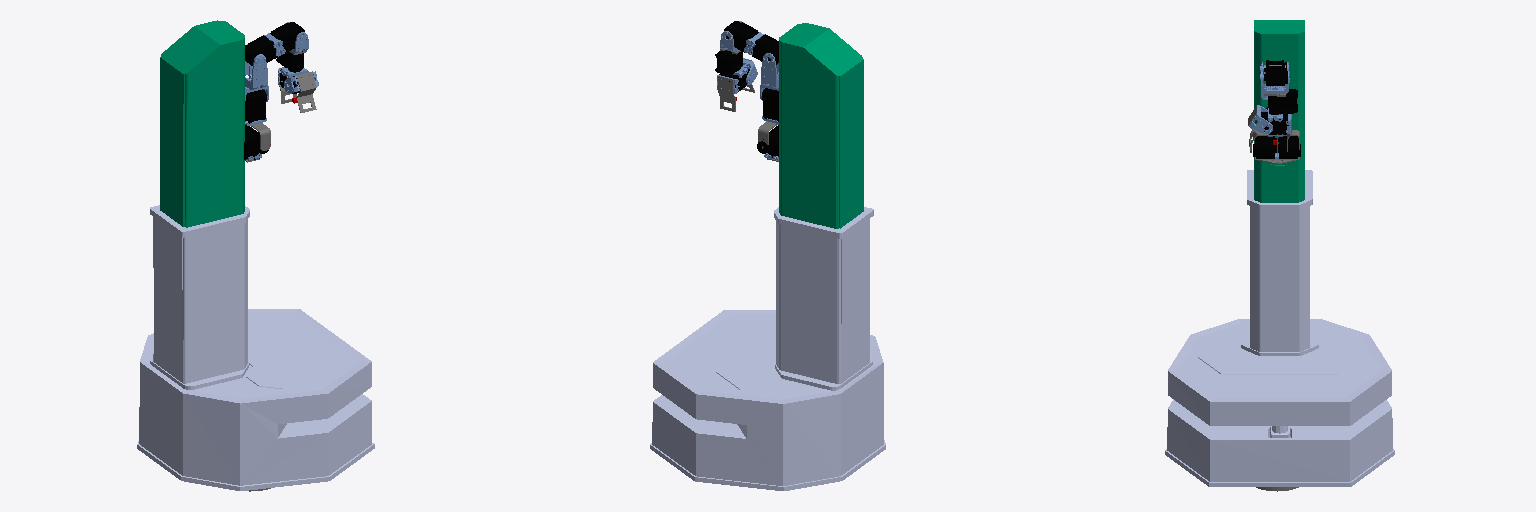
--- What the picture shows (computed from the rendered views, not written in the file) ---
Views: 3 orthographic renders of the robot side by side, from view 1: azimuth 30°, elevation 25°; view 2: azimuth 150°, elevation 25°; view 3: azimuth 270°, elevation 25°.
Robot: hv_bot — 26 links, 25 joints (7 revolute, 2 continuous, 1 prismatic, 15 fixed); root link base_footprint; default pose: every joint at zero.
Visible links, largest first — view 1: base_link_torso, torso_link, lower_arm_link, upper_arm_link, finger_link, elbow_link, wrist_link, shoulder_link; view 2: base_link_torso, torso_link, lower_arm_link, wrist_link, gripper_link, upper_arm_link, elbow_link; view 3: base_link_torso, torso_link, shoulder_link, wrist_link, lower_arm_link, gripper_link.
Boxes of the visible links, box(x1,y1,x2,y2) form: base_link_torso: box(137, 205, 374, 490); torso_link: box(160, 20, 244, 227); lower_arm_link: box(245, 22, 304, 65); upper_arm_link: box(245, 89, 270, 150); finger_link: box(284, 71, 318, 112); elbow_link: box(245, 44, 268, 101); wrist_link: box(276, 22, 308, 72); shoulder_link: box(244, 125, 268, 162); base_link_torso: box(650, 207, 885, 490); torso_link: box(779, 23, 863, 228); lower_arm_link: box(724, 21, 778, 64); wrist_link: box(715, 21, 743, 75); gripper_link: box(717, 67, 749, 111); upper_arm_link: box(758, 88, 778, 148); elbow_link: box(760, 53, 778, 100); base_link_torso: box(1165, 170, 1394, 486); torso_link: box(1254, 20, 1304, 202); shoulder_link: box(1253, 136, 1300, 163); wrist_link: box(1260, 71, 1297, 114); lower_arm_link: box(1264, 60, 1287, 85); gripper_link: box(1261, 108, 1291, 151).
Bounding box of the posed robot: 0.5098 × 0.5863 × 1.24 m (x, y, z).
Meshes: 9 distinct files referenced, 9 mesh visuals loaded (2 binary STL, 7 Collada DAE); not drawn: 3 (reference in a form the renderer does not follow; not among the files counted above).

URDF robot description (hv_bot):
<?xml version="1.0" ?>
<!-- =================================================================================== -->
<!-- |    This document was autogenerated by xacro from robot.urdf.xacro               | -->
<!-- |    EDITING THIS FILE BY HAND IS NOT RECOMMENDED                                 | -->
<!-- =================================================================================== -->
<robot name="hv_bot">
  <material name="black">
    <color rgba="0.0 0.0 0.0 1.0"/>
  </material>
  <material name="blue">
    <color rgba="0.0 0.0 0.8 1.0"/>
  </material>
  <material name="green">
    <color rgba="0.0 0.8 0.0 1.0"/>
  </material>
  <material name="yellow">
    <color rgba="1.0 1.0 0.0 1.0"/>
  </material>
  <material name="dark_grey">
    <color rgba="0.2 0.2 0.2 1.0"/>
  </material>
  <material name="orange">
    <color rgba="1.0 0.4235294117647059 0.0392156862745098 1.0"/>
  </material>
  <material name="brown">
    <color rgba="0.5450980392156862 0.27058823529411763 0.07450980392156863 1.0"/>
  </material>
  <material name="red">
    <color rgba="0.8 0.0 0.0 1.0"/>
  </material>
  <material name="turquoise">
    <color rgba="0.25098039215686274 0.8784313725490196 0.8156862745098039 1.0"/>
  </material>
  <material name="purple">
    <color rgba="0.5019607843137255 0.0 0.5019607843137255 1.0"/>
  </material>
  <material name="white">
    <color rgba="1.0 1.0 1.0 1.0"/>
  </material>
  <material name="aluminium">
    <color rgba="0.5 0.5 0.5 1"/>
  </material>
  <material name="plastic">
    <color rgba="0.1 0.1 0.1 1"/>
  </material>
  <!--................................ INERTIA MATRICES .............................. -->
  <!-- ............................... TROLLEY WHEEL DEFINITION .............................. -->
  <!-- Base -->
  <!--................................ XACRO CONSTANTS .............................. -->
  <!-- ............................... LOAD MACROS ................................. -->
  <!-- ........................... SENSOR PLUGIN ................................... -->
  <gazebo>
    <plugin filename="gz-sim-sensors-system" name="gz::sim::systems::Sensors">
      <render_engine>ogre2</render_engine>
    </plugin>
    <plugin filename="gz-sim-imu-system" name="gz::sim::systems::Imu">
        </plugin>
    <plugin filename="gz-sim-diff-drive-system" name="gz::sim::systems::DiffDrive">
      <left_joint>middle_left_wheel_joint</left_joint>
      <right_joint>middle_right_wheel_joint</right_joint>
      <wheel_separation>0.64</wheel_separation>
      <wheel_radius>0.11</wheel_radius>
      <odom_publish_frequency>30</odom_publish_frequency>
      <topic>/cmd_vel</topic>
      <odom_topic>odom</odom_topic>
      <tf_topic>/tf</tf_topic>
      <frame_id>odom</frame_id>
      <child_frame_id>base_footprint</child_frame_id>
    </plugin>
    <plugin filename="gz-sim-joint-state-publisher-system" name="gz::sim::systems::JointStatePublisher">
      <topic>joint_states</topic>
      <joint_name>middle_left_wheel_joint</joint_name>
      <joint_name>middle_right_wheel_joint</joint_name>
    </plugin>
  </gazebo>
  <gazebo reference="gripper_link">
    <kp>1000000.0</kp>
    <kd>100.0</kd>
    <mu1>15</mu1>
    <mu2>15</mu2>
    <fdir1>1 0 0</fdir1>
    <maxVel>1.0</maxVel>
    <minDepth>0.002</minDepth>
  </gazebo>
  <gazebo>
    <plugin filename="gz-sim-joint-state-publisher-system" name="gz::sim::systems::JointStatePublisher">
      <topic>joint_states</topic>
      <joint_name>shoulder_joint</joint_name>
      <joint_name>upper_arm_joint</joint_name>
      <joint_name>elbow_joint</joint_name>
      <joint_name>lower_arm_joint</joint_name>
      <joint_name>wrist_joint</joint_name>
      <joint_name>gripper_joint</joint_name>
      <joint_name>finger_joint</joint_name>
      <joint_name>base_prismatic_torso</joint_name>
    </plugin>
  </gazebo>
  <gazebo reference="gripper_camera_link">
    <sensor name="camera" type="camera">
      <camera>
        <horizontal_fov>1.3962634</horizontal_fov>
        <image>
          <width>640</width>
          <height>480</height>
          <format>R8G8B8</format>
        </image>
        <clip>
          <near>0.1</near>
          <far>15</far>
        </clip>
        <noise>
          <type>gaussian</type>
          <!-- Noise is sampled independently per pixel on each frame.
               That pixel's noise value is added to each of its color
               channels, which at that point lie in the range [0,1]. -->
          <mean>0.0</mean>
          <stddev>0.007</stddev>
        </noise>
        <optical_frame_id>gripper_camera_link_optical</optical_frame_id>
        <camera_info_topic>gripper_camera/camera_info</camera_info_topic>
      </camera>
      <always_on>1</always_on>
      <update_rate>20</update_rate>
      <visualize>true</visualize>
      <topic>gripper_camera/image</topic>
    </sensor>
  </gazebo>
  <gazebo reference="two_d_lidar">
    <sensor name="gpu_lidar" type="gpu_lidar">
      <topic>scan</topic>
      <update_rate>30</update_rate>
      <gz_frame_id>two_d_lidar</gz_frame_id>
      <lidar>
        <scan>
          <horizontal>
            <samples>361</samples>
            <resolution>1</resolution>
            <min_angle>0.0</min_angle>
            <max_angle>6.283185307179586</max_angle>
          </horizontal>
        </scan>
        <range>
          <min>0.55</min>
          <max>16</max>
          <resolution>0.01</resolution>
        </range>
        <noise>
          <type>gaussian</type>
          <mean>0.0</mean>
          <stddev>0.001</stddev>
        </noise>
      </lidar>
      <always_on>1</always_on>
      <visualize>true</visualize>
    </sensor>
  </gazebo>
  <gazebo reference="imu_link">
    <sensor name="imu" type="imu">
      <always_on>1</always_on>
      <update_rate>50</update_rate>
      <visualize>true</visualize>
      <topic>imu</topic>
      <enable_metrics>true</enable_metrics>
      <gz_frame_id>imu_link</gz_frame_id>
    </sensor>
  </gazebo>
  <!-- ................................ BASE LINK .................................. -->
  <link name="base_footprint"/>
  <link name="base_link"/>
  <joint name="base_joint" type="fixed">
    <parent link="base_footprint"/>
    <child link="base_link"/>
    <origin rpy="0 0 0.0" xyz="0.0 0 0.195"/>
  </joint>
  <link name="chassis_link">
    <collision>
      <origin rpy="0 0 0" xyz="0 0 -0.05"/>
      <geometry>
        <box size="0.9 0.64 0.19"/>
      </geometry>
    </collision>
    <visual>
      <origin rpy="0 0 0" xyz="0 0 -0.205"/>
      <geometry>
        <mesh filename="file://[local-path]/hv_bot/install/hv_bot_arm/share/hv_bot_arm/meshes/bcr_bot_mesh.dae" scale="1 1 1"/>
      </geometry>
    </visual>
    <inertial>
      <mass value="70"/>
      <inertia ixx="2.5999166666666667" ixy="0" ixz="0" iyy="4.935583333333334" iyz="0" izz="7.114333333333334"/>
    </inertial>
  </link>
  <joint name="chassis_joint" type="fixed">
    <parent link="base_link"/>
    <child link="chassis_link"/>
    <origin rpy="0 0 0.0" xyz="0.0 0 0"/>
  </joint>
  <!-- ................................ WHEELS ..................................... -->
  <link name="front_left_wheel">
    <collision>
      <origin rpy="0 1.5707963267948966 1.5707963267948966" xyz="0 0 0"/>
      <geometry>
        <sphere radius="0.06"/>
      </geometry>
    </collision>
    <inertial>
      <origin rpy="0 0 0" xyz="0 0 0"/>
      <mass value="0.1"/>
      <inertia ixx="0.00014399999999999998" ixy="0" ixz="0" iyy="0.00014399999999999998" iyz="0" izz="0.00014399999999999998"/>
    </inertial>
    <mu>0.0</mu>
  </link>
  <joint name="front_left_wheel_joint" type="fixed">
    <parent link="base_link"/>
    <child link="front_left_wheel"/>
    <origin rpy="0 0 0" xyz="0.45 0.27 -0.155"/>
    <axis rpy="0 0 0" xyz="0 1 0"/>
  </joint>
  <gazebo reference="front_left_wheel">
    <material>Gazebo/Black</material>
  </gazebo>
  <link name="front_right_wheel">
    <collision>
      <origin rpy="0 1.5707963267948966 1.5707963267948966" xyz="0 0 0"/>
      <geometry>
        <sphere radius="0.06"/>
      </geometry>
    </collision>
    <inertial>
      <origin rpy="0 0 0" xyz="0 0 0"/>
      <mass value="0.1"/>
      <inertia ixx="0.00014399999999999998" ixy="0" ixz="0" iyy="0.00014399999999999998" iyz="0" izz="0.00014399999999999998"/>
    </inertial>
    <mu>0.0</mu>
  </link>
  <joint name="front_right_wheel_joint" type="fixed">
    <parent link="base_link"/>
    <child link="front_right_wheel"/>
    <origin rpy="0 0 0" xyz="0.45 -0.27 -0.155"/>
    <axis rpy="0 0 0" xyz="0 1 0"/>
  </joint>
  <gazebo reference="front_right_wheel">
    <material>Gazebo/Black</material>
  </gazebo>
  <link name="back_left_wheel">
    <collision>
      <origin rpy="0 1.5707963267948966 1.5707963267948966" xyz="0 0 0"/>
      <geometry>
        <sphere radius="0.06"/>
      </geometry>
    </collision>
    <inertial>
      <origin rpy="0 0 0" xyz="0 0 0"/>
      <mass value="0.1"/>
      <inertia ixx="0.00014399999999999998" ixy="0" ixz="0" iyy="0.00014399999999999998" iyz="0" izz="0.00014399999999999998"/>
    </inertial>
    <mu>0.0</mu>
  </link>
  <joint name="back_left_wheel_joint" type="fixed">
    <parent link="base_link"/>
    <child link="back_left_wheel"/>
    <origin rpy="0 0 0" xyz="-0.45 0.27 -0.155"/>
    <axis rpy="0 0 0" xyz="0 1 0"/>
  </joint>
  <gazebo reference="back_left_wheel">
    <material>Gazebo/Black</material>
  </gazebo>
  <link name="back_right_wheel">
    <collision>
      <origin rpy="0 1.5707963267948966 1.5707963267948966" xyz="0 0 0"/>
      <geometry>
        <sphere radius="0.06"/>
      </geometry>
    </collision>
    <inertial>
      <origin rpy="0 0 0" xyz="0 0 0"/>
      <mass value="0.1"/>
      <inertia ixx="0.00014399999999999998" ixy="0" ixz="0" iyy="0.00014399999999999998" iyz="0" izz="0.00014399999999999998"/>
    </inertial>
    <mu>0.0</mu>
  </link>
  <joint name="back_right_wheel_joint" type="fixed">
    <parent link="base_link"/>
    <child link="back_right_wheel"/>
    <origin rpy="0 0 0" xyz="-0.45 -0.27 -0.155"/>
    <axis rpy="0 0 0" xyz="0 1 0"/>
  </joint>
  <gazebo reference="back_right_wheel">
    <material>Gazebo/Black</material>
  </gazebo>
  <link name="middle_left_wheel">
    <collision>
      <origin rpy="0 1.5707963267948966 1.5707963267948966" xyz="0 0 0"/>
      <geometry>
        <cylinder length="0.05" radius="0.1"/>
      </geometry>
      <self_collide>false</self_collide>
    </collision>
    <inertial>
      <origin rpy="0 1.5707963267948966 1.5707963267948966" xyz="0 0 0"/>
      <mass value="1"/>
      <inertia ixx="0.002708333333333334" ixy="0" ixz="0" iyy="0.002708333333333334" iyz="0" izz="0.005000000000000001"/>
    </inertial>
    <mu>5.0</mu>
  </link>
  <joint name="middle_left_wheel_joint" type="continuous">
    <parent link="base_link"/>
    <child link="middle_left_wheel"/>
    <origin rpy="0 0 0" xyz="0 0.3 -0.11699999999999999"/>
    <axis rpy="0 0 0" xyz="0 1 0"/>
  </joint>
  <gazebo reference="middle_left_wheel">
    <material>Gazebo/Black</material>
  </gazebo>
  <link name="middle_right_wheel">
    <collision>
      <origin rpy="0 1.5707963267948966 1.5707963267948966" xyz="0 0 0"/>
      <geometry>
        <cylinder length="0.05" radius="0.1"/>
      </geometry>
      <self_collide>false</self_collide>
    </collision>
    <inertial>
      <origin rpy="0 1.5707963267948966 1.5707963267948966" xyz="0 0 0"/>
      <mass value="1"/>
      <inertia ixx="0.002708333333333334" ixy="0" ixz="0" iyy="0.002708333333333334" iyz="0" izz="0.005000000000000001"/>
    </inertial>
    <mu>5.0</mu>
  </link>
  <joint name="middle_right_wheel_joint" type="continuous">
    <parent link="base_link"/>
    <child link="middle_right_wheel"/>
    <origin rpy="0 0 0" xyz="0 -0.3 -0.11699999999999999"/>
    <axis rpy="0 0 0" xyz="0 1 0"/>
  </joint>
  <gazebo reference="middle_right_wheel">
    <material>Gazebo/Black</material>
  </gazebo>
  <link name="base_link_torso">
    <inertial>
      <origin rpy="0 1.57 0" xyz="0 0 0"/>
      <mass value="5.0"/>
      <inertia ixx="0.01" ixy="0.0" ixz="0.0" iyy="0.01" iyz="0.0" izz="0.01"/>
    </inertial>
    <visual>
      <origin rpy="0 0 0" xyz="0 0 0"/>
      <geometry>
        <mesh filename="package://hv_bot_arm/meshes/base_link.STL" scale="1000 1000 1000"/>
      </geometry>
      <material name="">
        <color rgba="0.792156862745098 0.819607843137255 0.933333333333333 1"/>
      </material>
    </visual>
    <collision>
      <origin rpy="0 1.57 0" xyz="0 0 0"/>
      <geometry>
        <mesh filename="package://hv_bot_arm/meshes/base_link.STL" scale="1000 1000 1000"/>
      </geometry>
    </collision>
  </link>
  <joint name="torso_joint" type="fixed">
    <parent link="base_link"/>
    <child link="base_link_torso"/>
    <origin rpy="1.57 0 -1.57" xyz="0.0 0 0.145"/>
  </joint>
  <link name="torso_link">
    <visual>
      <geometry>
        <mesh filename="package://hv_bot_arm/meshes/torso.STL" scale="1000 1000 1000"/>
      </geometry>
      <origin rpy="0 0 0.0" xyz="0 0 0"/>
    </visual>
    <collision>
      <geometry>
        <mesh filename="package://hv_bot_arm/meshes/torso.STL" scale="1000 1000 1000"/>
      </geometry>
    </collision>
    <inertial>
      <origin xyz="0.0 0.0 0.0"/>
      <mass value="0.480879"/>
      <inertia ixx="0.222" ixy="0" ixz="0" iyy="0.395" iyz="0" izz="0.222"/>
    </inertial>
  </link>
  <joint name="base_prismatic_torso" type="prismatic">
    <parent link="base_link_torso"/>
    <child link="torso_link"/>
    <axis xyz="0 1 0"/>
    <limit effort="1000.0" lower="0" upper="0.4" velocity="0.5"/>
    <origin rpy="0 0 0" xyz="0 0 0"/>
    <!--pos-->
  </joint>
  <joint name="shoulder_joint" type="revolute">
    <origin rpy="1.57 4.71079637 3.14" xyz="0.0 0.8 0"/>
    <parent link="torso_link"/>
    <child link="shoulder_link"/>
    <limit effort="100" lower="-3.14" upper="3.14" velocity="100"/>
    <dynamics damping="0.1" friction="0.1"/>
    <axis xyz="0 0 1"/>
  </joint>
  <link name="shoulder_link">
    <visual>
      <geometry>
        <mesh filename="package://hv_bot_arm/meshes/DAE/shoulder/shoulder.dae" scale="1.5 1.5 1.5"/>
      </geometry>
    </visual>
    <collision>
      <geometry>
        <mesh filename="package://hv_bot_arm/meshes/STL/shoulder/shoulder.stl" scale="1.5 1.5 1.5"/>
      </geometry>
    </collision>
    <inertial>
      <origin xyz="0.0000223482 0.0000414609 0.0066287000"/>
      <mass value="0.480879"/>
      <inertia ixx="0.222" ixy="0" ixz="0" iyy="0.395" iyz="0" izz="0.222"/>
    </inertial>
    <surface>
      <friction>
        <ode>
          <mu1>1.2</mu1>
          <mu2>1.2</mu2>
          <kp>1e15</kp>
          <kd>1e13</kd>
        </ode>
      </friction>
      <bounce>
        <restitution_coefficient>0.01</restitution_coefficient>
        <threshold>0</threshold>
      </bounce>
      <contact>
        <ode>
          <max_vel>10</max_vel>
        </ode>
      </contact>
    </surface>
  </link>
  <joint name="upper_arm_joint" type="revolute">
    <origin rpy="0 0 0" xyz="0.0 0.005 0.0415"/>
    <parent link="shoulder_link"/>
    <child link="upper_arm_link"/>
    <limit effort="100" lower="-3.14" upper="3.14" velocity="100"/>
    <dynamics damping="0.1" friction="0.1"/>
    <axis xyz="0 1 0"/>
  </joint>
  <link name="upper_arm_link">
    <visual>
      <geometry>
        <mesh filename="package://hv_bot_arm/meshes/DAE/upper_arm/upper_arm.dae" scale="1.5 1.5 1.5"/>
      </geometry>
    </visual>
    <collision>
      <geometry>
        <mesh filename="package://hv_bot_arm/meshes/STL/upper_arm/upper_arm.stl" scale="1.5 1.5 1.5"/>
      </geometry>
    </collision>
    <inertial>
      <origin xyz="0.0 0.0 0.0"/>
      <mass value="0.298"/>
      <inertia ixx="0.002176" ixy="-0.0000030658" ixz="0.0" iyy="0.00005757" iyz="0.0" izz="0.002186"/>
    </inertial>
    <surface>
      <friction>
        <ode>
          <mu1>1.2</mu1>
          <mu2>1.2</mu2>
          <kp>1e15</kp>
          <kd>1e13</kd>
        </ode>
      </friction>
      <bounce>
        <restitution_coefficient>0.01</restitution_coefficient>
        <threshold>0</threshold>
      </bounce>
      <contact>
        <ode>
          <max_vel>10</max_vel>
        </ode>
      </contact>
    </surface>
  </link>
  <joint name="elbow_joint" type="revolute">
    <origin rpy="0 0 0" xyz="0.0 0.0 0.10275"/>
    <parent link="upper_arm_link"/>
    <child link="elbow_link"/>
    <limit effort="100" lower="-3.14" upper="3.14" velocity="100"/>
    <dynamics damping="0.1" friction="0.1"/>
    <axis xyz="1 0 0"/>
  </joint>
  <link name="elbow_link">
    <visual>
      <geometry>
        <mesh filename="package://hv_bot_arm/meshes/DAE/elbow/elbow.dae" scale="1.5 1.5 1.5"/>
      </geometry>
    </visual>
    <collision>
      <geometry>
        <mesh filename="package://hv_bot_arm/meshes/STL/elbow/elbow.stl" scale="1.5 1.5 1.5"/>
      </geometry>
    </collision>
    <inertial>
      <origin xyz="0.1079630000 0.0001158760 0"/>
      <mass value="0.234589"/>
      <inertia ixx="0.00003971" ixy="0.0000023528" ixz="0.0" iyy="0.0008878" iyz="0.0" izz="0.000888"/>
    </inertial>
    <surface>
      <friction>
        <ode>
          <mu1>1.2</mu1>
          <mu2>1.2</mu2>
          <kp>1e15</kp>
          <kd>1e13</kd>
        </ode>
      </friction>
      <bounce>
        <restitution_coefficient>0.01</restitution_coefficient>
        <threshold>0</threshold>
      </bounce>
      <contact>
        <ode>
          <max_vel>10</max_vel>
        </ode>
      </contact>
    </surface>
  </link>
  <joint name="lower_arm_joint" type="revolute">
    <origin rpy="0 -1.3089969750000001 0" xyz="0.0 0.0 0.117"/>
    <parent link="elbow_link"/>
    <child link="lower_arm_link"/>
    <limit effort="100" lower="-3.14" upper="3.14" velocity="100"/>
    <dynamics damping="0.1" friction="0.1"/>
    <axis xyz="0 1 0"/>
  </joint>
  <link name="lower_arm_link">
    <visual>
      <geometry>
        <mesh filename="package://hv_bot_arm/meshes/DAE/lower_arm/lower_arm.dae" scale="1.5 1.5 1.5"/>
      </geometry>
    </visual>
    <collision>
      <geometry>
        <mesh filename="package://hv_bot_arm/meshes/STL/lower_arm/lower_arm.stl" scale="1.5 1.5 1.5"/>
      </geometry>
    </collision>
    <inertial>
      <origin xyz="0.0374395000 0.0052225200 0"/>
      <mass value="0.220991"/>
      <inertia ixx="0.00006369" ixy="-0.00002292" ixz="0.0" iyy="0.0001677" iyz="0.0" izz="0.0001834"/>
    </inertial>
    <surface>
      <friction>
        <ode>
          <mu1>1.2</mu1>
          <mu2>1.2</mu2>
          <kp>1e15</kp>
          <kd>1e13</kd>
        </ode>
      </friction>
      <bounce>
        <restitution_coefficient>0.01</restitution_coefficient>
        <threshold>0</threshold>
      </bounce>
      <contact>
        <ode>
          <max_vel>10</max_vel>
        </ode>
      </contact>
    </surface>
  </link>
  <joint name="wrist_joint" type="revolute">
    <origin rpy="0 -1.832595765 0" xyz="0.0 0.0 0.1245"/>
    <parent link="lower_arm_link"/>
    <child link="wrist_link"/>
    <limit effort="100" lower="-3.14" upper="3.14" velocity="100"/>
    <dynamics damping="0.1" friction="0.1"/>
    <axis xyz="0 1 0"/>
  </joint>
  <link name="wrist_link">
    <visual>
      <geometry>
        <mesh filename="package://hv_bot_arm/meshes/DAE/wrist/wrist.dae" scale="1.5 1.5 1.5"/>
      </geometry>
    </visual>
    <collision>
      <geometry>
        <mesh filename="package://hv_bot_arm/meshes/STL/wrist/wrist.stl" scale="1.5 1.5 1.5"/>
      </geometry>
    </collision>
    <inertial>
      <origin xyz="0.0 0.0 0.0"/>
      <mass value="0.085"/>
      <inertia ixx="0.00003082" ixy="0.0000000191" ixz="0.0000000023" iyy="0.00002822" iyz="0.0000025481" izz="0.00003152"/>
    </inertial>
    <surface>
      <friction>
        <ode>
          <mu1>1.2</mu1>
          <mu2>1.2</mu2>
          <kp>1e15</kp>
          <kd>1e13</kd>
        </ode>
      </friction>
      <bounce>
        <restitution_coefficient>0.01</restitution_coefficient>
        <threshold>0</threshold>
        <origin rpy="-0.52359879 0 0" xyz="0.0 0.01475 -0.037"/>
      </bounce>
      <contact>
        <ode>
          <max_vel>10</max_vel>
        </ode>
      </contact>
    </surface>
  </link>
  <joint name="gripper_joint" type="revolute">
    <origin rpy="0 0 0" xyz="0.0 0.0 0.183"/>
    <parent link="wrist_link"/>
    <child link="gripper_link"/>
    <limit effort="100" lower="-3.14" upper="3.14" velocity="100"/>
    <dynamics damping="0.1" friction="0.1"/>
    <axis xyz="0 0 1"/>
  </joint>
  <link name="gripper_link">
    <visual>
      <geometry>
        <mesh filename="package://hv_bot_arm/meshes/DAE/gripper/gripper.dae" scale="1.5 1.5 1.5"/>
      </geometry>
    </visual>
    <collision>
      <geometry>
        <mesh filename="package://hv_bot_arm/meshes/STL/gripper/gripper.stl" scale="1.5 1.5 1.5"/>
      </geometry>
    </collision>
    <inertial>
      <origin xyz="0.0 0.0 0.0"/>
      <mass value="0.25"/>
      <inertia ixx="0.00002537" ixy="0.0" ixz="0.0" iyy="0.00001836" iyz="0.000000434" izz="0.00001674"/>
    </inertial>
    <surface>
      <friction>
        <ode>
          <mu1>1.2</mu1>
          <mu2>1.2</mu2>
          <kp>1e15</kp>
          <kd>1e13</kd>
        </ode>
      </friction>
      <bounce>
        <restitution_coefficient>0.01</restitution_coefficient>
        <threshold>0</threshold>
      </bounce>
      <contact>
        <ode>
          <max_vel>10</max_vel>
        </ode>
      </contact>
    </surface>
  </link>
  <gazebo reference="gripper_link">
    <mu1>1.2</mu1>
    <mu2>1.2</mu2>
    <kp>1e15</kp>
    <kd>1e13</kd>
    <fdir1>1 0 0</fdir1>
    <maxVel>1.0</maxVel>
    <minDepth>0.002</minDepth>
  </gazebo>
  <joint name="finger_joint" type="revolute">
    <origin rpy="-0.52359879 0 0" xyz="0.0 0.022125 -0.0555"/>
    <parent link="gripper_link"/>
    <child link="finger_link"/>
    <limit effort="100" lower="-1.57" upper="1.57" velocity="100"/>
    <dynamics damping="0.005" friction="0.039"/>
    <axis xyz="1 0 0"/>
  </joint>
  <link name="finger_link">
    <visual>
      <geometry>
        <mesh filename="package://hv_bot_arm/meshes/DAE/finger/finger.dae" scale="1.5 1.5 1.5"/>
      </geometry>
    </visual>
    <collision>
      <geometry>
        <mesh filename="package://hv_bot_arm/meshes/STL/finger/finger.stl" scale="1.5 1.5 1.5"/>
      </geometry>
    </collision>
    <inertial>
      <origin xyz="0.0 0.0 0.0"/>
      <mass value="0.016"/>
      <inertia ixx="0.00009" ixy="0.0" ixz="0.0" iyy="0.00009" iyz="0.0" izz="0.00002"/>
    </inertial>
    <origin rpy="-0.52359879 0 0" xyz="0.0 0.01475 -0.037"/>
    <surface>
      <friction>
        <ode>
          <mu1>1.2</mu1>
          <mu2>1.2</mu2>
          <kp>1e15</kp>
          <kd>1e13</kd>
        </ode>
      </friction>
      <bounce>
        <restitution_coefficient>0.01</restitution_coefficient>
        <threshold>0</threshold>
      </bounce>
      <contact>
        <ode>
          <max_vel>10</max_vel>
        </ode>
      </contact>
    </surface>
  </link>
  <gazebo reference="finger_link">
    <mu1>1.2</mu1>
    <mu2>1.2</mu2>
    <kp>1e15</kp>
    <kd>1e13</kd>
    <fdir1>1 0 0</fdir1>
    <maxVel>1.0</maxVel>
    <minDepth>0.002</minDepth>
  </gazebo>
  <!-- STEP 11 - Gripper camera -->
  <joint name="gripper_camera_joint" type="fixed">
    <origin rpy="0 -1.5707 0" xyz="0.0 0.0 0.0"/>
    <child link="gripper_camera_link"/>
    <parent link="gripper_link"/>
  </joint>
  <link name="gripper_camera_link">
    <pose>0 0 0 0 0 0</pose>
    <inertial>
      <mass value="1.0e-03"/>
      <origin rpy="0 0 0" xyz="0 0 0"/>
      <inertia ixx="1e-6" ixy="0" ixz="0" iyy="1e-6" iyz="0" izz="1e-6"/>
    </inertial>
    <visual>
      <origin rpy="0 0 0" xyz="0 0 0"/>
      <geometry>
        <box size=".01 .01 .01"/>
      </geometry>
      <material name="red"/>
    </visual>
  </link>
  <joint name="gripper_camera_optical_joint" type="fixed">
    <origin rpy="-1.5707 0 -1.5707" xyz="0 0 0"/>
    <child link="gripper_camera_link_optical"/>
    <parent link="gripper_camera_link"/>
  </joint>
  <link name="gripper_camera_link_optical">
  </link>
  <joint name="imu_joint" type="fixed">
    <origin rpy="0 0 0" xyz="0 0 0"/>
    <parent link="base_link"/>
    <child link="imu_link"/>
  </joint>
  <link name="imu_link">
  </link>
  <ros2_control name="GazeboSystem" type="system">
    <hardware>
      <plugin>gz_ros2_control/GazeboSimSystem</plugin>
    </hardware>
    <joint name="base_prismatic_torso">
      <command_interface name="position">
        <param name="min">-2</param>
        <param name="max">2</param>
      </command_interface>
      <state_interface name="position">
        <param name="initial_value">0.0</param>
      </state_interface>
      <state_interface name="velocity"/>
      <state_interface name="effort"/>
    </joint>
    <joint name="shoulder_joint">
      <command_interface name="position">
        <param name="min">-2</param>
        <param name="max">2</param>
      </command_interface>
      <state_interface name="position">
        <param name="initial_value">0.0</param>
      </state_interface>
      <state_interface name="velocity"/>
      <state_interface name="effort"/>
    </joint>
    <joint name="upper_arm_joint">
      <command_interface name="position">
        <param name="min">-2</param>
        <param name="max">2</param>
      </command_interface>
      <state_interface name="position">
        <param name="initial_value">0.0</param>
      </state_interface>
      <state_interface name="velocity"/>
      <state_interface name="effort"/>
    </joint>
    <joint name="elbow_joint">
      <command_interface name="position">
        <param name="min">-2</param>
        <param name="max">2</param>
      </command_interface>
      <state_interface name="position">
        <param name="initial_value">0.0</param>
      </state_interface>
      <state_interface name="velocity"/>
      <state_interface name="effort"/>
    </joint>
    <joint name="lower_arm_joint">
      <command_interface name="position">
        <param name="min">-2</param>
        <param name="max">2</param>
      </command_interface>
      <state_interface name="position">
        <param name="initial_value">0.0</param>
      </state_interface>
      <state_interface name="velocity"/>
      <state_interface name="effort"/>
    </joint>
    <joint name="wrist_joint">
      <command_interface name="position">
        <param name="min">-2</param>
        <param name="max">2</param>
      </command_interface>
      <state_interface name="position">
        <param name="initial_value">0.0</param>
      </state_interface>
      <state_interface name="velocity"/>
      <state_interface name="effort"/>
    </joint>
    <joint name="gripper_joint">
      <command_interface name="position">
        <param name="min">-2</param>
        <param name="max">2</param>
      </command_interface>
      <state_interface name="position">
        <param name="initial_value">0.0</param>
      </state_interface>
      <state_interface name="velocity"/>
      <state_interface name="effort"/>
    </joint>
    <joint name="finger_joint">
      <command_interface name="position">
        <param name="min">-2</param>
        <param name="max">2</param>
      </command_interface>
      <state_interface name="position">
        <param name="initial_value">0.0</param>
      </state_interface>
      <state_interface name="velocity"/>
      <state_interface name="effort"/>
    </joint>
  </ros2_control>
  <gazebo>
    <plugin filename="libgz_ros2_control-system.so" name="gz_ros2_control::GazeboSimROS2ControlPlugin">
      <parameters>[local-path]/hv_bot/install/hv_bot_arm/share/hv_bot_arm/config/my_controllers.yaml</parameters>
      <parameters>[local-path]/hv_bot/install/hv_bot_arm/share/hv_bot_arm/config/gaz_ros2_ctl_use_sim.yaml</parameters>
    </plugin>
  </gazebo>
  <link name="two_d_lidar">
    <collision>
      <origin rpy="0 0 0" xyz="0 0 0"/>
      <geometry>
        <cylinder length="0.06" radius="0.075"/>
      </geometry>
    </collision>
    <visual>
      <origin rpy="0 0 0" xyz="0 0 0"/>
      <geometry>
        <cylinder length="0.06" radius="0.075"/>
      </geometry>
      <material name="aluminium"/>
    </visual>
    <inertial>
      <origin rpy="0 0 0" xyz="0 0 0"/>
      <mass value="0.1"/>
      <inertia ixx="0.000170625" ixy="0" ixz="0" iyy="0.000170625" iyz="0" izz="0.00028125"/>
    </inertial>
  </link>
  <joint name="two_d_lidar_joint" type="fixed">
    <parent link="base_link"/>
    <child link="two_d_lidar"/>
    <origin rpy="0 0 0" xyz="0.0 0 0.08"/>
  </joint>
  <gazebo reference="two_d_lidar">
    <material>Gazebo/White</material>
  </gazebo>
  <!-- STEREO CAMERA -->
  <link name="stereo_camera">
    <collision>
      <origin rpy="0 0 0" xyz="0 0 0"/>
      <geometry>
        <box size="0.07 0.3 0.09"/>
      </geometry>
    </collision>
    <visual>
      <origin rpy="0 0 0" xyz="0 0 0"/>
      <geometry>
        <mesh filename="file://[local-path]/hv_bot/install/hv_bot_arm/share/hv_bot_arm/meshes/kinect/d415.dae"/>
      </geometry>
      <material name="black"/>
    </visual>
    <inertial>
      <mass value="0.01"/>
      <inertia ixx="8.175e-05" ixy="0" ixz="0" iyy="1.0833333333333335e-05" iyz="0" izz="7.908333333333334e-05"/>
    </inertial>
  </link>
  <joint name="stereo_camera_joint" type="fixed">
    <origin rpy="0 0 0" xyz="0.45 0 0.027142857142857142"/>
    <parent link="base_link"/>
    <child link="stereo_camera"/>
  </joint>
  <link name="stereo_camera_optical"/>
  <joint name="stereo_camera_optical_joint" type="fixed">
    <origin rpy="-1.5707963267948966 0 -1.5707963267948966" xyz="0 0 0"/>
    <parent link="stereo_camera"/>
    <child link="stereo_camera_optical"/>
  </joint>
  <gazebo reference="stereo_camera">
    <sensor name="right" type="camera">
      <update_rate>10.0</update_rate>
      <always_on>true</always_on>
      <gz_frame_id>stereo_camera_optical</gz_frame_id>
      <pose>0 -0.12 0 0 0 0</pose>
      <topic>stereo_camera/right/image_raw</topic>
      <camera_info_topic>stereo_camera/right/camera_info</camera_info_topic>
      <horizontal_fov>1.3962634</horizontal_fov>
      <image>
        <width>1024</width>
        <height>1024</height>
        <format>R8G8B8</format>
      </image>
      <clip>
        <near>0.3</near>
        <far>20</far>
      </clip>
    </sensor>
    <sensor name="left" type="camera">
      <topic>stereo_camera/left/image_raw</topic>
      <update_rate>10.0</update_rate>
      <always_on>true</always_on>
      <gz_frame_id>stereo_camera_optical</gz_frame_id>
      <camera_info_topic>stereo_camera/left/camera_info</camera_info_topic>
      <pose>0 0 0 0 0 0</pose>
      <horizontal_fov>1.3962634</horizontal_fov>
      <image>
        <width>1024</width>
        <height>1024</height>
        <format>R8G8B8</format>
      </image>
      <clip>
        <near>0.3</near>
        <far>20</far>
      </clip>
    </sensor>
  </gazebo>
  <link name="kinect_camera">
    <collision>
      <origin rpy="0 0 0" xyz="0 0 0"/>
      <geometry>
        <box size="0.07 0.3 0.09"/>
      </geometry>
    </collision>
    <visual>
      <origin rpy="0 0 0" xyz="0 0 0"/>
      <geometry>
        <mesh filename="file://[local-path]/hv_bot/install/hv_bot_arm/share/hv_bot_arm/meshes/kinect/d415.dae"/>
      </geometry>
      <material name="black"/>
    </visual>
    <inertial>
      <mass value="0.01"/>
      <inertia ixx="8.175e-05" ixy="0" ixz="0" iyy="1.0833333333333335e-05" iyz="0" izz="7.908333333333334e-05"/>
    </inertial>
  </link>
  <joint name="kinect_camera_joint" type="fixed">
    <origin rpy="0 0 0" xyz="0.45 0 0.027142857142857142"/>
    <parent link="base_link"/>
    <child link="kinect_camera"/>
  </joint>
  <link name="kinect_camera_optical"/>
  <joint name="kinect_camera_optical_joint" type="fixed">
    <origin rpy="-1.5707963267948966 0 -1.5707963267948966" xyz="0 0 0"/>
    <parent link="kinect_camera"/>
    <child link="kinect_camera_optical"/>
  </joint>
  <gazebo reference="kinect_camera">
    <sensor name="kinect_camera" type="depth_camera">
      <update_rate>30.0</update_rate>
      <topic>kinect_camera</topic>
      <gz_frame_id>kinect_camera</gz_frame_id>
      <camera>
        <camera_info_topic>kinect_camera/camera_info</camera_info_topic>
        <horizontal_fov>1.0471975511965976</horizontal_fov>
        <image>
          <width>640</width>
          <height>480</height>
          <format>R8G8B8</format>
        </image>
        <clip>
          <near>0.05</near>
          <far>8.0</far>
        </clip>
      </camera>
    </sensor>
  </gazebo>
</robot>
